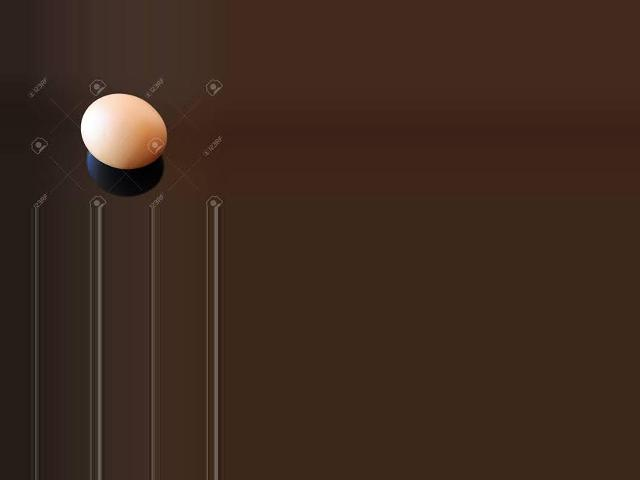egg: (80, 93, 166, 170)
